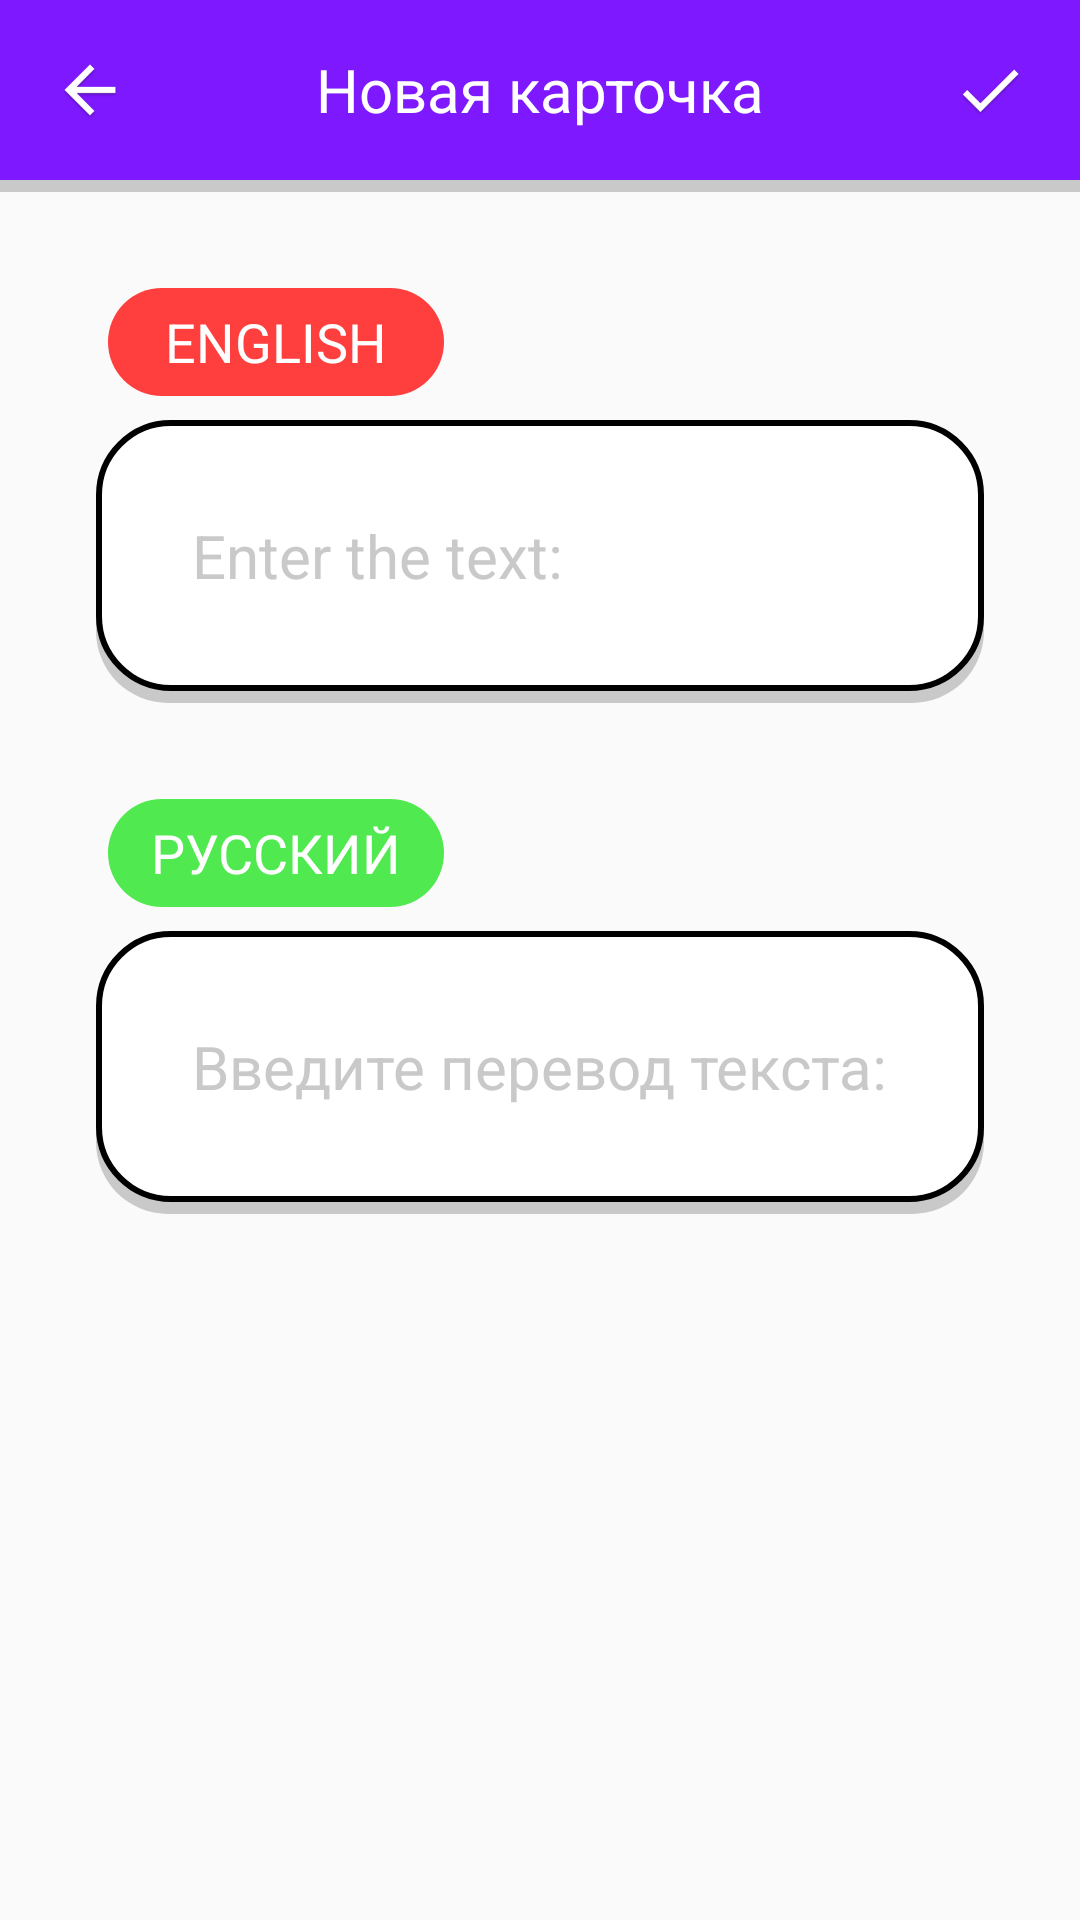

Locate icon controls on the screen. Image size 1080x1920, boxes as (x1=x1, y1=y1, x2=x2, y2=y2).
back: (x1=64, y1=64, x2=116, y2=117)
check: (x1=963, y1=69, x2=1019, y2=113)
